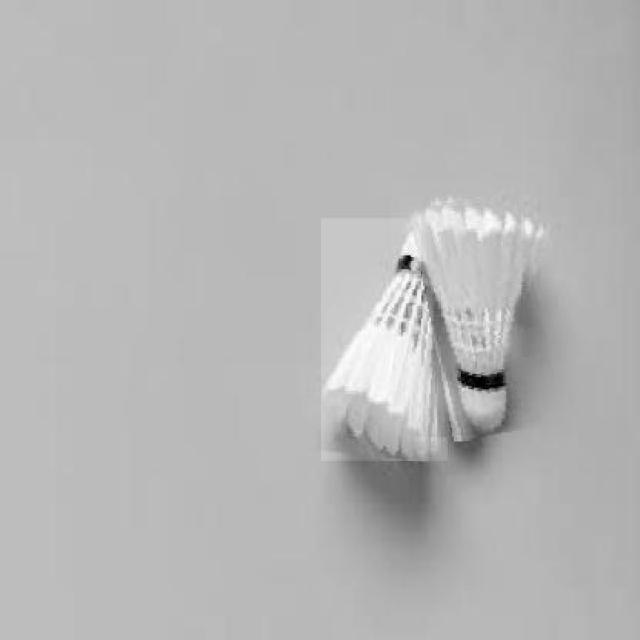Shuttlecock: (420, 194, 552, 437), (320, 218, 448, 460)
